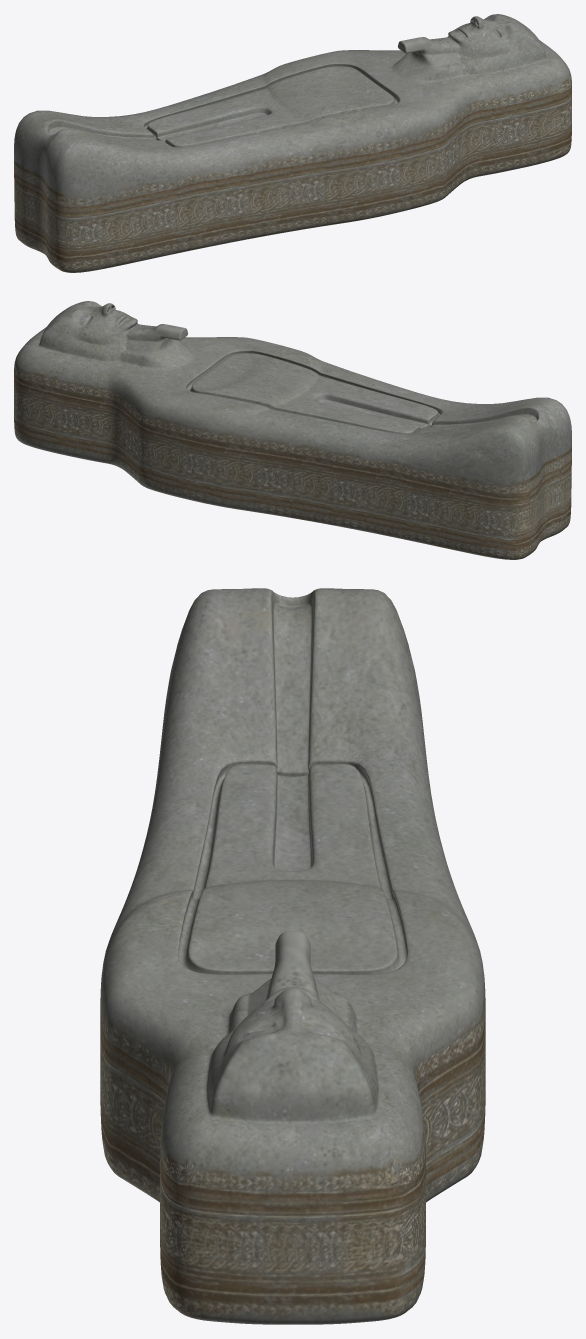
File: Sarcofago.FBX
3 views of the same model, one above another, from view 1: azimuth 30°, elevation 25°; view 2: azimuth 150°, elevation 25°; view 3: azimuth 270°, elevation 25° (orthographic). The views are drawn at different scales.
Parts seen in each view (by area): view 1: default; view 2: default; view 3: default.
Boxes of the visible parts, bbox=[...] form: default: bbox=[14, 14, 571, 272]; default: bbox=[14, 301, 571, 559]; default: bbox=[100, 588, 485, 1324].
Bounding box in the file's own units: 2.9 × 0.7148 × 0.9347.
1 material, 1 textured.
